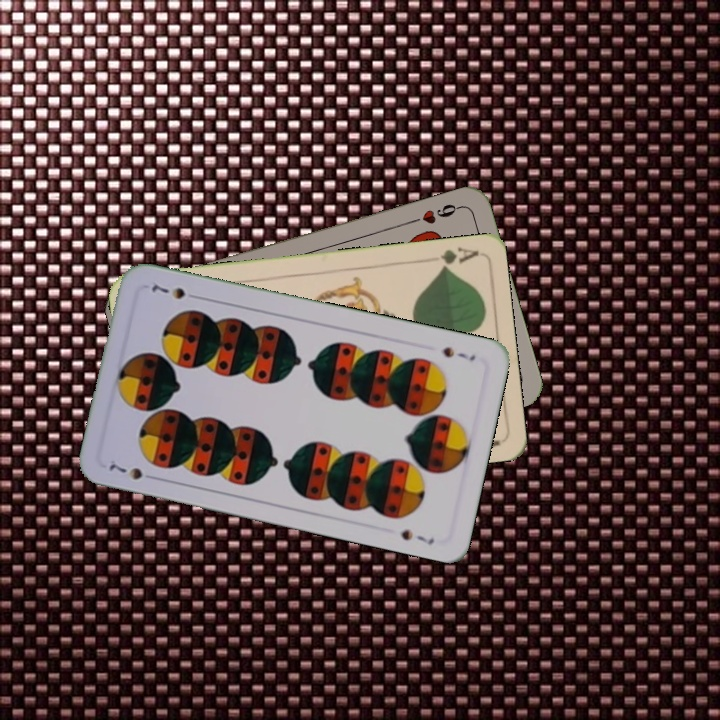GA: (436, 243, 480, 273)
H9: (406, 199, 464, 227)
S7: (105, 460, 160, 483), (438, 342, 478, 364)
